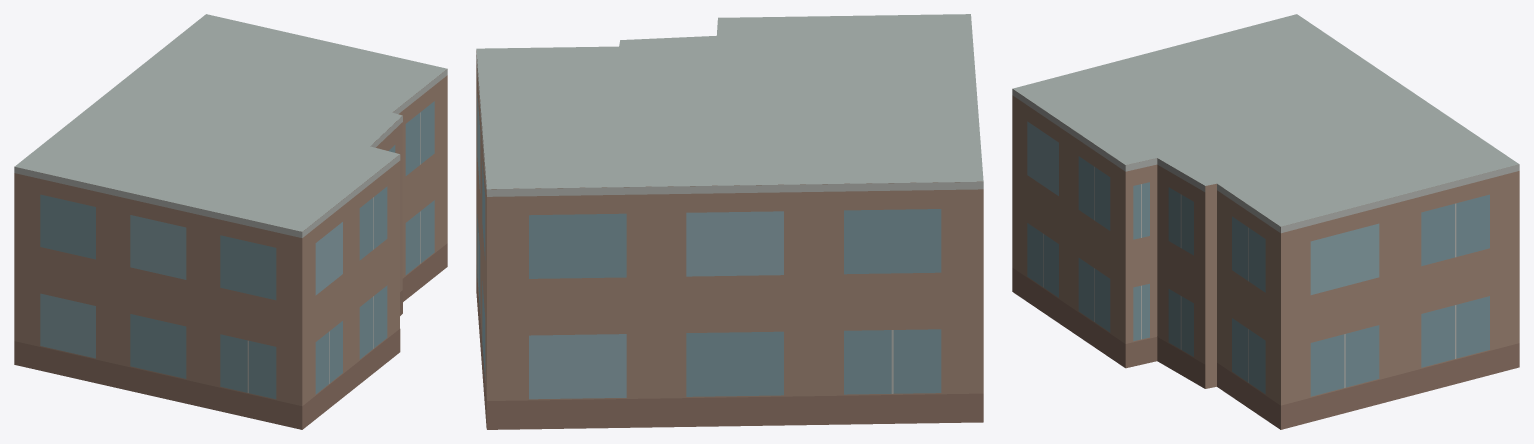
File: survey-upis-32625088.glb
3 views of the same model, side by side, from view 1: azimuth 30°, elevation 25°; view 2: azimuth 150°, elevation 25°; view 3: azimuth 270°, elevation 25° (orthographic). The views are drawn at different scales.
Parts seen in each view (by area): view 1: survey-upis-32625088.tmp; view 2: survey-upis-32625088.tmp; view 3: survey-upis-32625088.tmp.
Boxes of the visible parts, left/top/right/bottom form: survey-upis-32625088.tmp: left=14, top=14, right=447, bottom=429; survey-upis-32625088.tmp: left=476, top=14, right=983, bottom=429; survey-upis-32625088.tmp: left=1012, top=14, right=1519, bottom=429.
Size of the model in its own units: 17.09 by 7.6 by 17.21.
